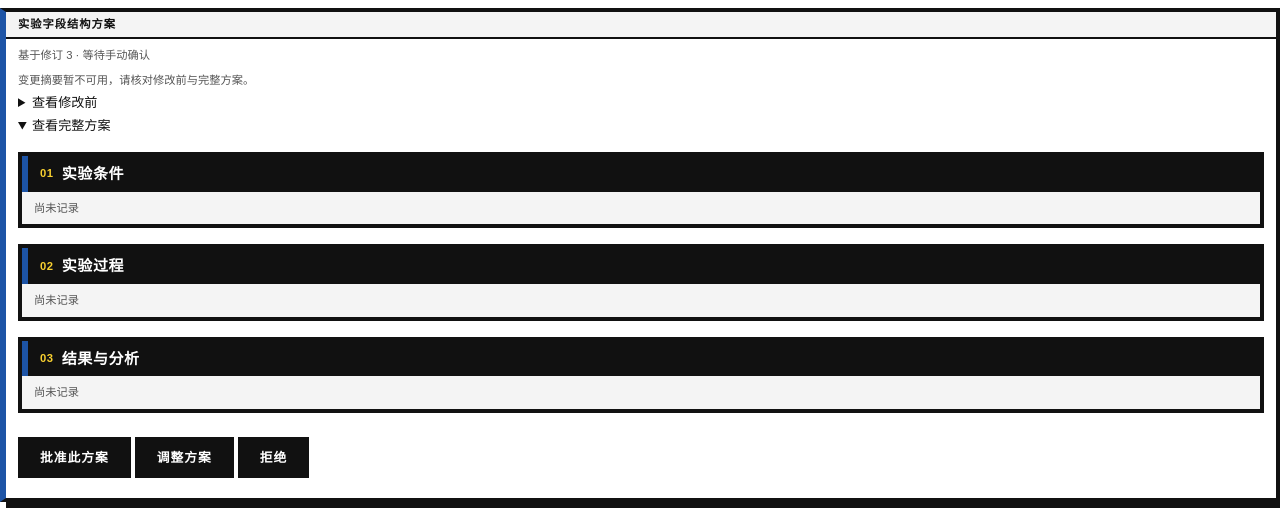
Test case: 结构方案加载后不自动批准，手动按钮发送绑定哈希与版本
What coordinates should you click on to do the following:
click the button "批准此方案"
I would click on:
 (74, 458)
Its box is left=18, top=437, right=131, bottom=478.
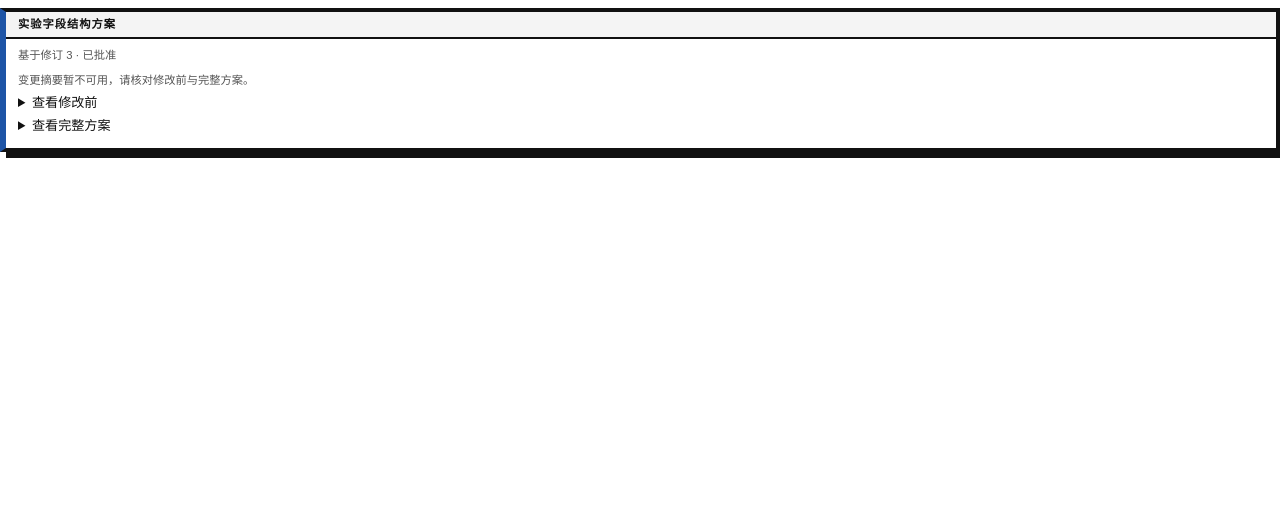
Expected: the text "基于修订 3 · 已批准" is shown, left=18, top=49, right=116, bottom=61
